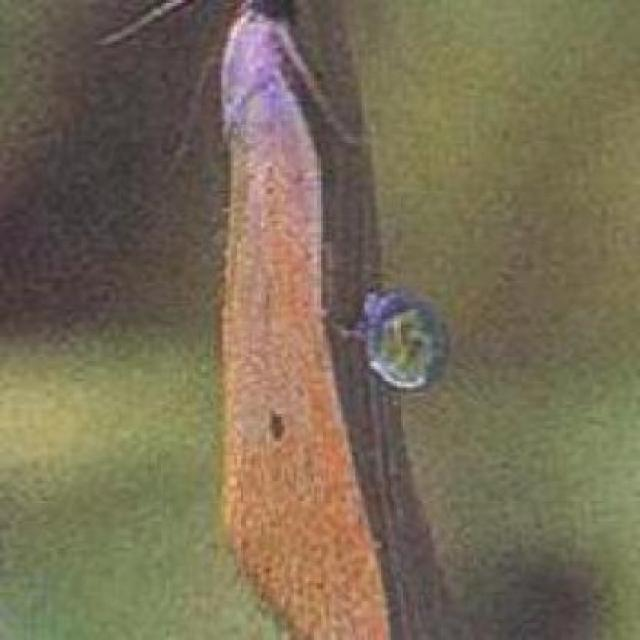stem-borer: (214, 0, 361, 640)
